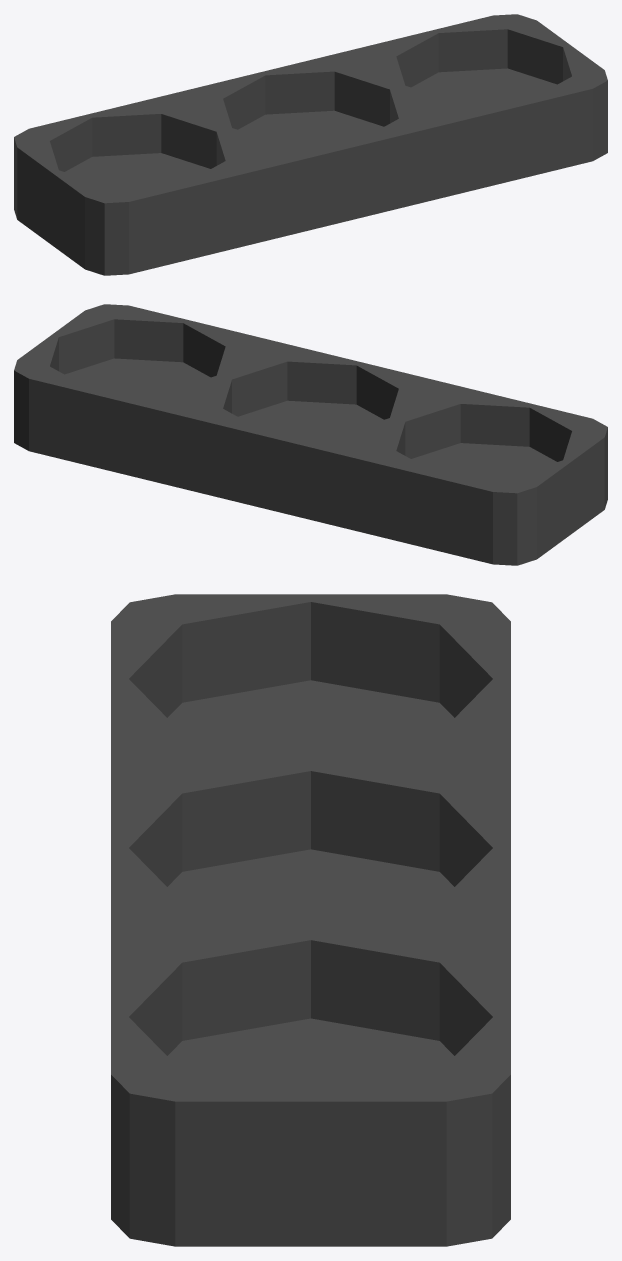
The model's file is Props_PowerSocket_02.fbx.
3 views of the same model, one above another, from view 1: azimuth 30°, elevation 25°; view 2: azimuth 150°, elevation 25°; view 3: azimuth 270°, elevation 25° (orthographic). The views are drawn at different scales.
Visible parts, largest first — view 1: Props_PowerSocket_02; view 2: Props_PowerSocket_02; view 3: Props_PowerSocket_02.
Boxes of the visible parts, x1=… form: Props_PowerSocket_02: x1=14, y1=14, x2=607, y2=275; Props_PowerSocket_02: x1=14, y1=304, x2=607, y2=565; Props_PowerSocket_02: x1=111, y1=594, x2=510, y2=1246.
Size of the model in its own units: 71.07 by 9.48 by 23.69.
